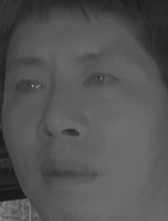eye: (82, 67, 120, 94), (11, 75, 49, 99)
mouth: (38, 151, 99, 192)
